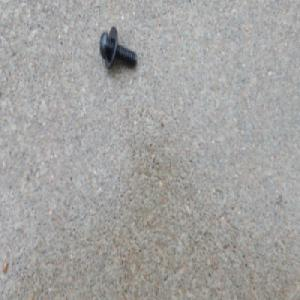BoltWasher: (99, 28, 137, 73)
